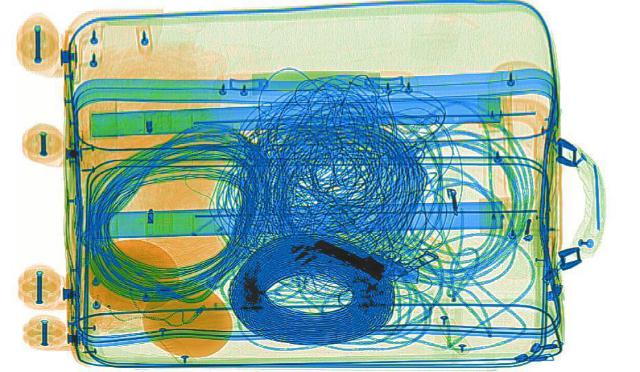Gun: (296, 224, 439, 285)
